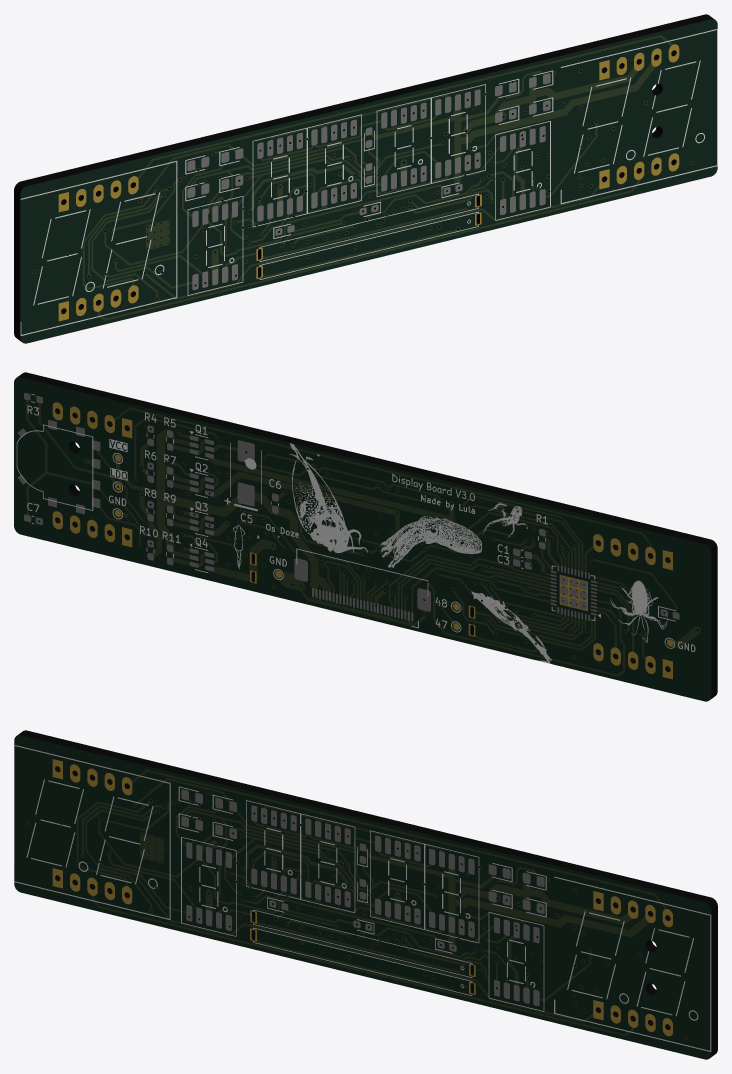
The model's file is display-board-small-v3.0-bare.glb.
3 renders of one model, top to bottom at view 1: azimuth 30°, elevation 25°; view 2: azimuth 150°, elevation 25°; view 3: azimuth 330°, elevation 25°, orthographic.
Parts seen in each view (by area): view 1: SHAPE_1596, SHAPE_1592, SHAPE_1594, SHAPE_1600, SHAPE_1595; view 2: SHAPE_1596, SHAPE_1592, SHAPE_1594, SHAPE_1600, SHAPE_1595; view 3: SHAPE_1596, SHAPE_1592, SHAPE_1594, SHAPE_1600, SHAPE_1595.
Part boxes in pixels (x1,y1,x2,y2): SHAPE_1596: (20, 19, 717, 343); SHAPE_1592: (14, 14, 716, 342); SHAPE_1594: (33, 35, 693, 321); SHAPE_1600: (20, 29, 717, 335); SHAPE_1595: (187, 73, 550, 290); SHAPE_1596: (14, 377, 711, 701); SHAPE_1592: (14, 372, 717, 700); SHAPE_1594: (26, 400, 700, 679); SHAPE_1600: (16, 394, 695, 666); SHAPE_1595: (17, 393, 679, 621); SHAPE_1596: (14, 735, 711, 1059); SHAPE_1592: (15, 730, 717, 1058); SHAPE_1594: (26, 759, 687, 1038); SHAPE_1600: (14, 745, 711, 1051); SHAPE_1595: (181, 789, 544, 1006).
Size of the model in its own units: 4.02 by 0.8662 by 0.0689.
